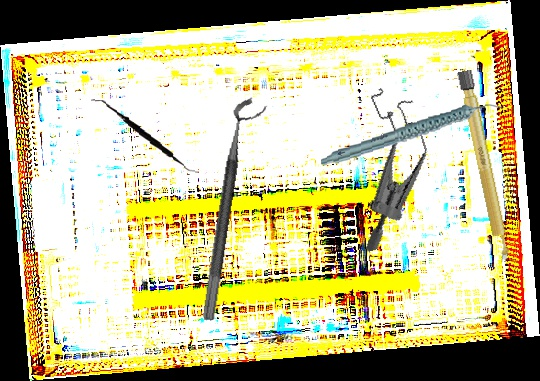Fixation Ring: (200, 94, 269, 325)
Handpiece: (317, 100, 507, 169)
Scalpel Handle: (456, 69, 513, 264)
Spatula Surgical: (85, 99, 205, 174)
Speculum: (317, 78, 457, 254)
